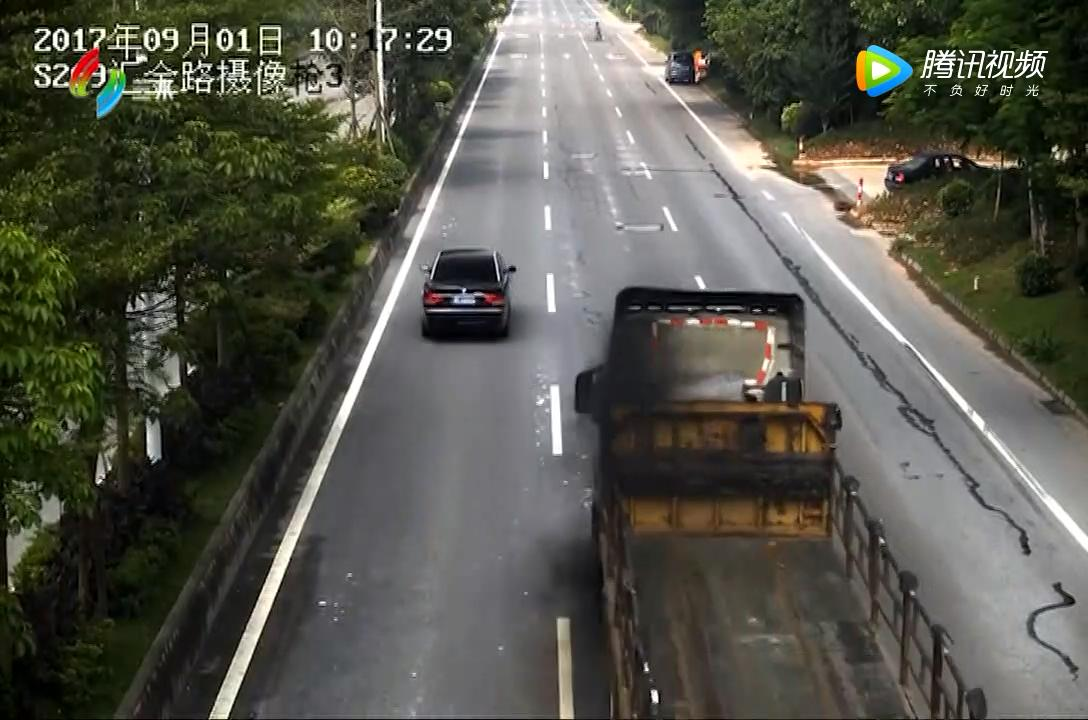smoke: (545, 331, 659, 594)
